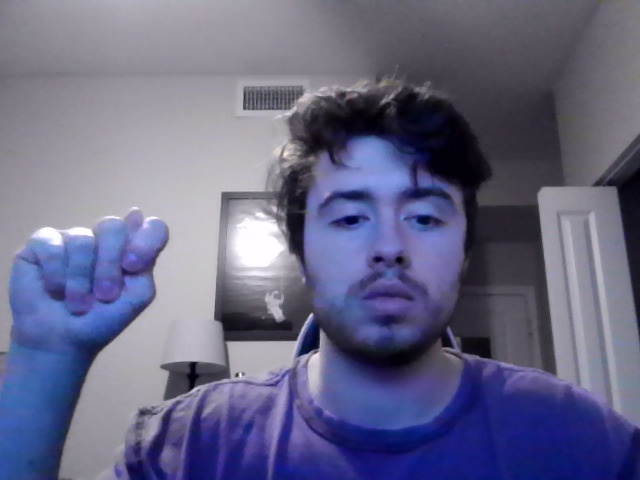t: (7, 206, 170, 367)
